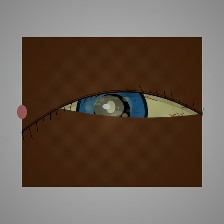corneal_ulcer: (84, 88, 133, 127)
